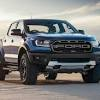Ford: (1, 18, 100, 84)
